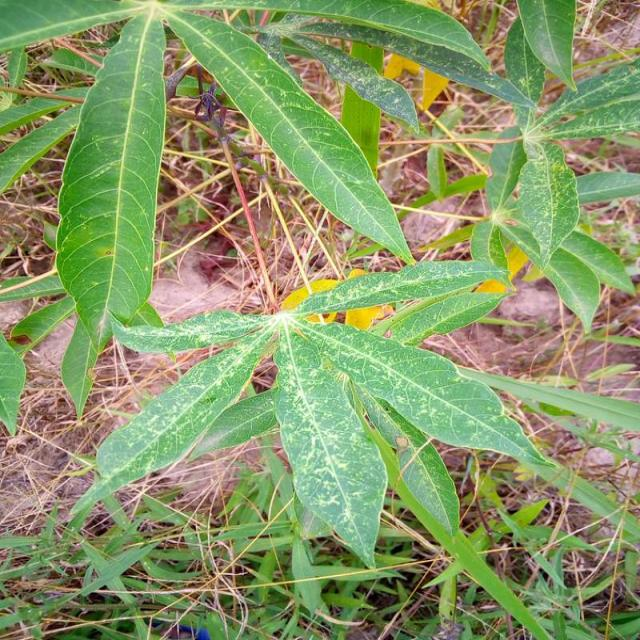cassava leaf: (163, 7, 416, 266), (54, 10, 167, 419)
